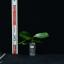leaf: (32, 33, 49, 41), (20, 31, 32, 40), (32, 40, 43, 43), (19, 40, 26, 44), (22, 43, 29, 46)
